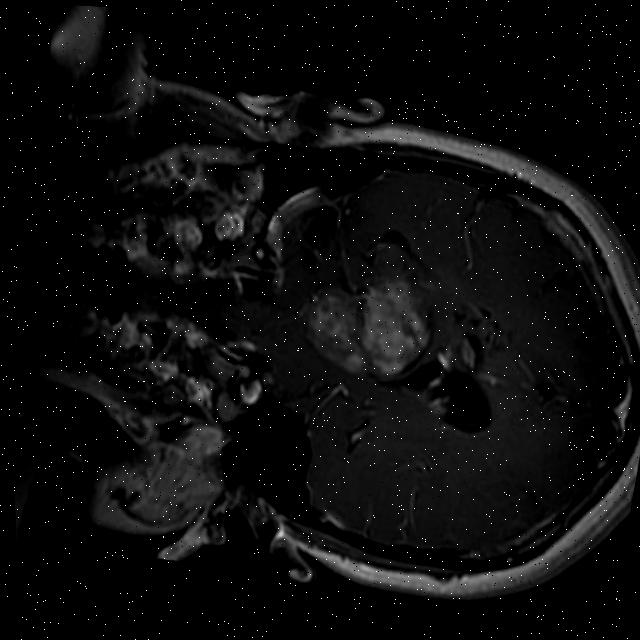Glioma: (294, 256, 443, 394), (429, 293, 518, 388)
